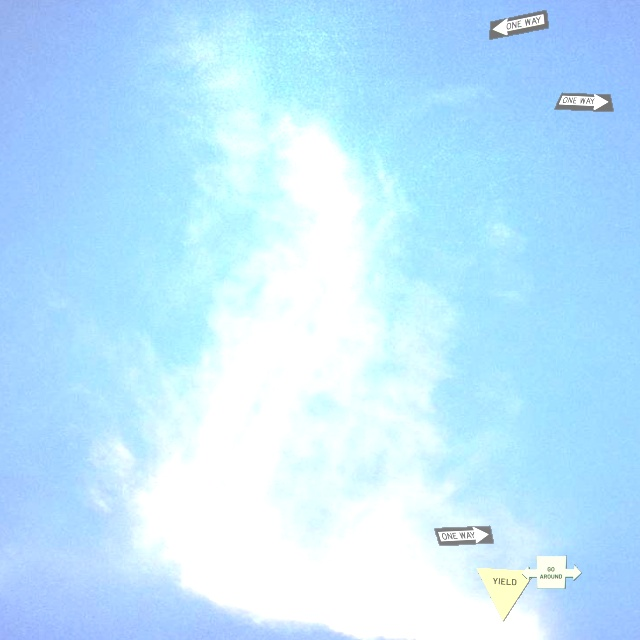GO_AROUND: (521, 555, 582, 589)
ONE_WAY_ left: (488, 9, 548, 40)
ONE_WAY_ right: (433, 525, 494, 546), (553, 92, 614, 112)
YIELD: (475, 567, 536, 622)
